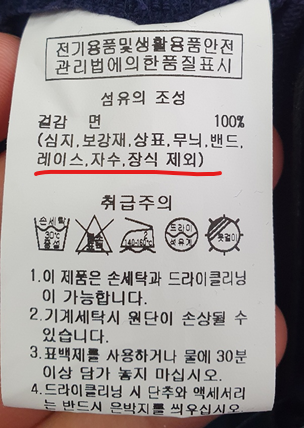KR_dry_clean_petroleum: (160, 212, 203, 257)
KR_hand_wash_30_neutral: (29, 211, 73, 257)
KR_hang_dry_in_shade: (203, 211, 246, 261)
KR_iron_medium_temp_with_cloth: (119, 215, 156, 260)
KR_no_chlorine_bleach: (74, 213, 116, 259)
